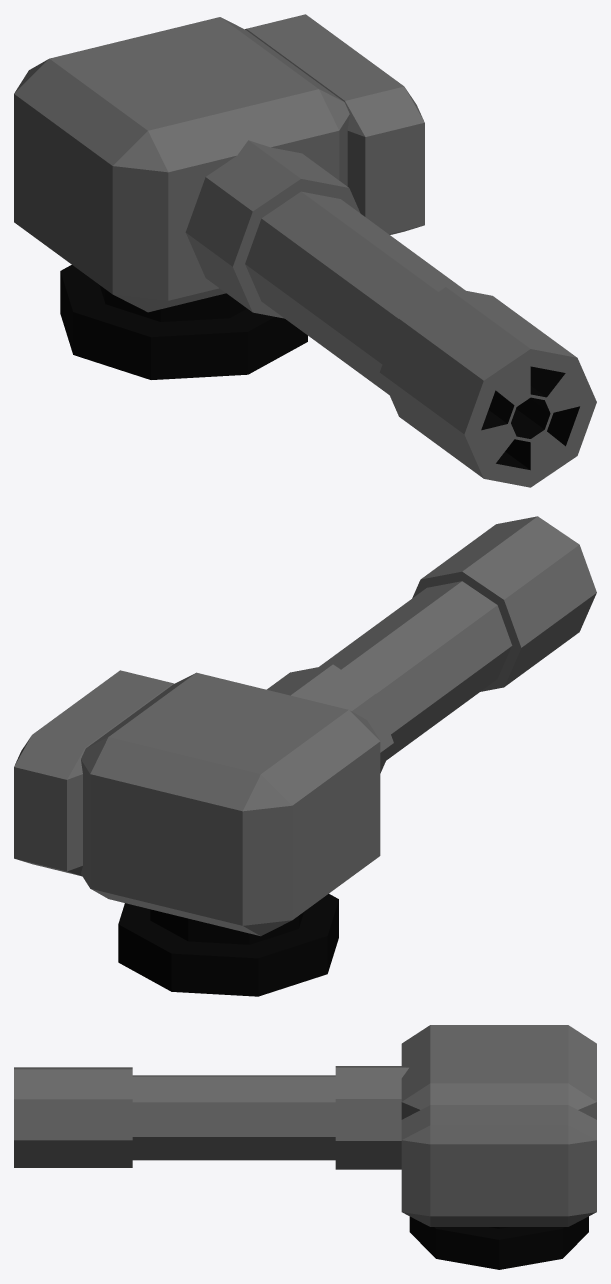
File: SM_Wpn_Gun_Machinegun.fbx
3 views of the same model, one above another, from view 1: azimuth 30°, elevation 25°; view 2: azimuth 150°, elevation 25°; view 3: azimuth 270°, elevation 25° (orthographic). The views are drawn at different scales.
Parts seen in each view (by area): view 1: SM_Wpn_Gun_Machinegun, SM_Wpn_Gun_Machinegun.001; view 2: SM_Wpn_Gun_Machinegun, SM_Wpn_Gun_Machinegun.001; view 3: SM_Wpn_Gun_Machinegun, SM_Wpn_Gun_Machinegun.001.
Part boxes in pixels (x1=…): SM_Wpn_Gun_Machinegun: x1=14, y1=14, x2=596, y2=487; SM_Wpn_Gun_Machinegun.001: x1=60, y1=265, x2=307, y2=379; SM_Wpn_Gun_Machinegun: x1=14, y1=516, x2=596, y2=936; SM_Wpn_Gun_Machinegun.001: x1=118, y1=894, x2=338, y2=996; SM_Wpn_Gun_Machinegun: x1=14, y1=1025, x2=596, y2=1226; SM_Wpn_Gun_Machinegun.001: x1=409, y1=1216, x2=588, y2=1269.
Bounding box in the file's own units: 0.5027 × 0.4013 × 1.19.
